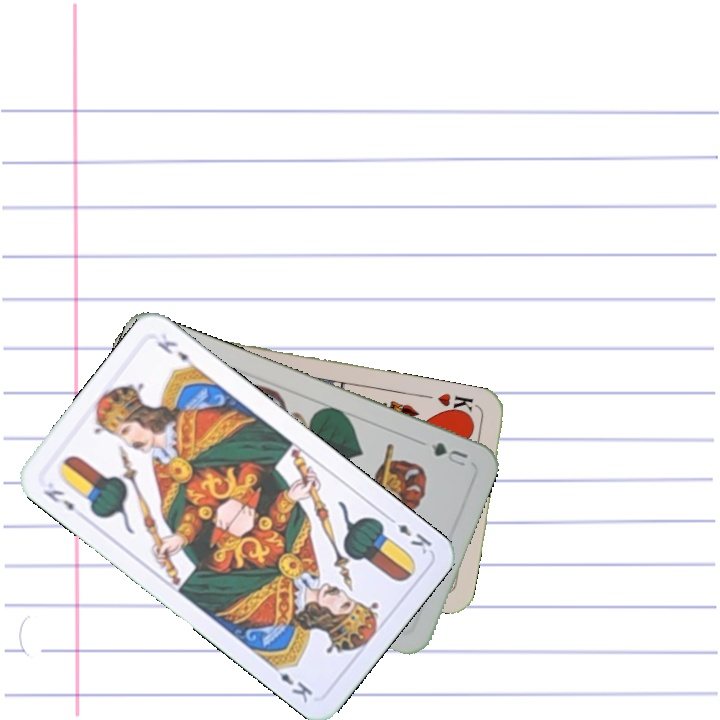EK: (382, 511, 435, 557), (39, 485, 77, 514)
GU: (425, 438, 471, 469)
HK: (433, 389, 482, 420)
